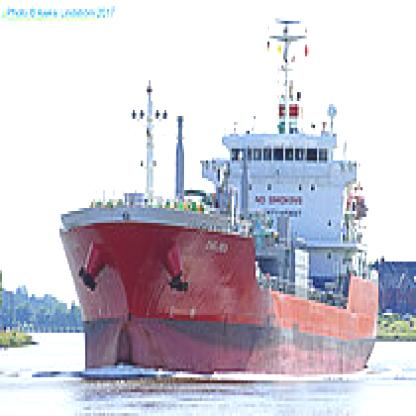Tanker: (52, 45, 378, 386)
